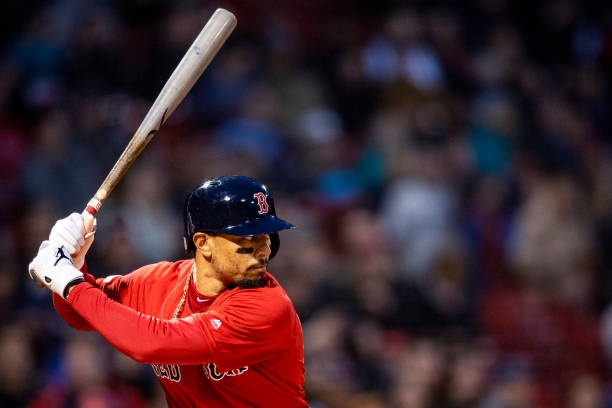bita: (52, 5, 230, 267)
